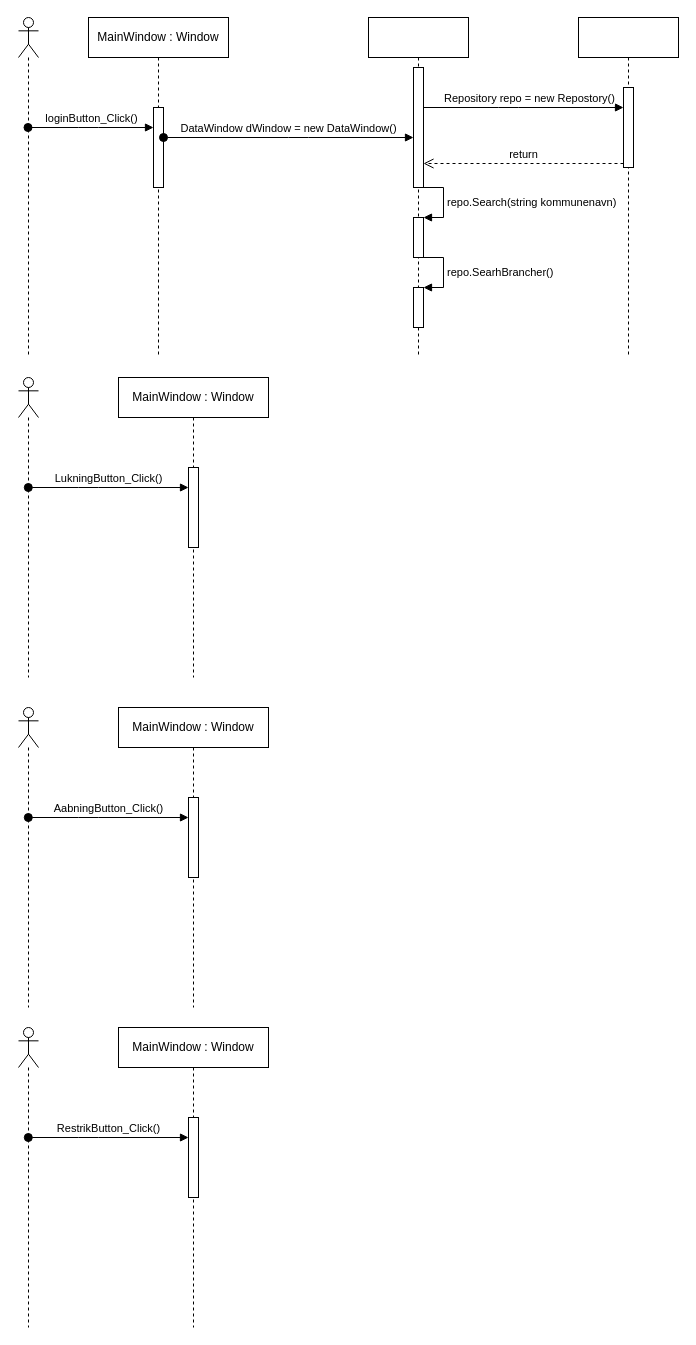
Some shapes in this 696 by 1345 pixel diagram are drawn without their labels. The centre of each missing label's shape, as x and y in pixels:
": DataWindow" goes at pixel 418 187.
": Repository" goes at pixel 628 187.
